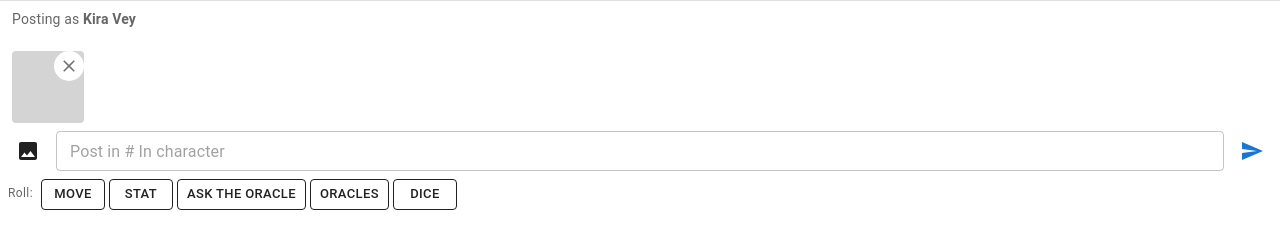
Test: ChatComposer › removing an image before posting discards its upload
Earlier steps of the test are not shown.
Click the button named "Remove lantern.png".
click(69, 66)  # box 54,51 -> 84,81
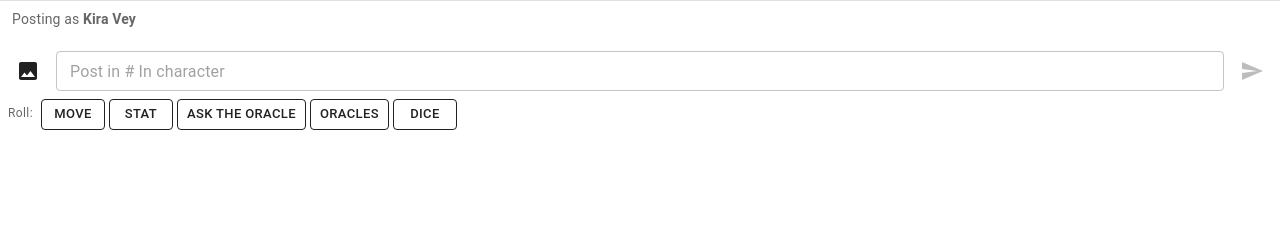
Check: the picture is gone
